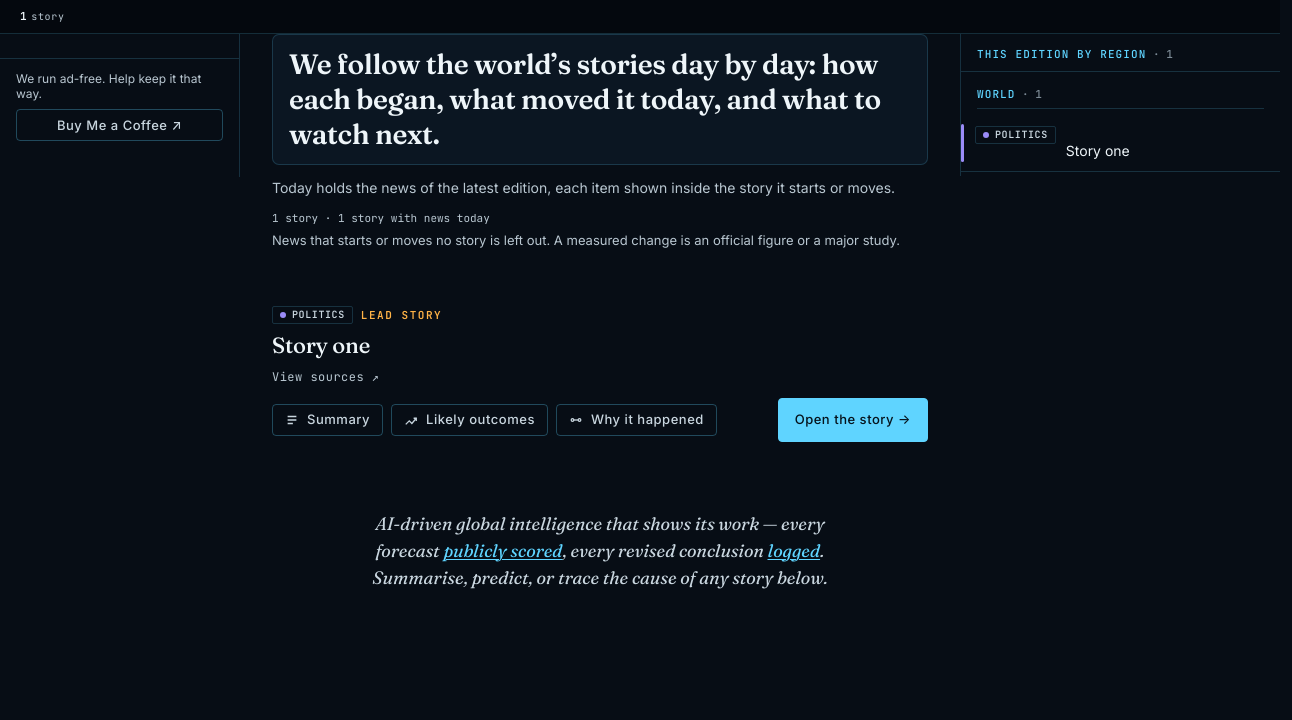
Test: /today failure states › Predict on a topic the latest run wrote without a forecast says so at once: no request, no retry, no network wording, links the story
Click the button "Likely outcomes": (469, 420) [391,404,548,436]
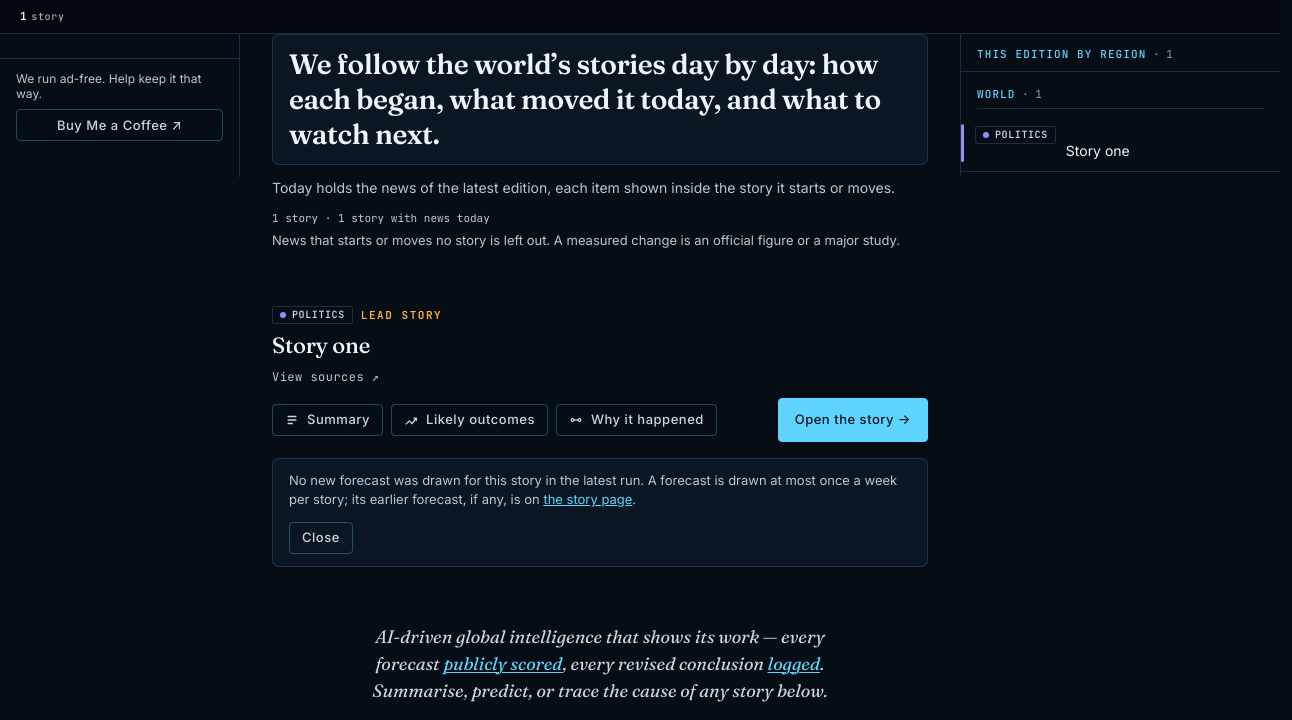
Expected: the message with test id "no-forecast" shows "No new forecast was drawn for this story in the latest run", [289,472,897,507]
Expected: the message with test id "no-forecast" shows "at most once a week", [289,472,897,507]
Click the button "Close": (321, 538) [289,522,353,554]
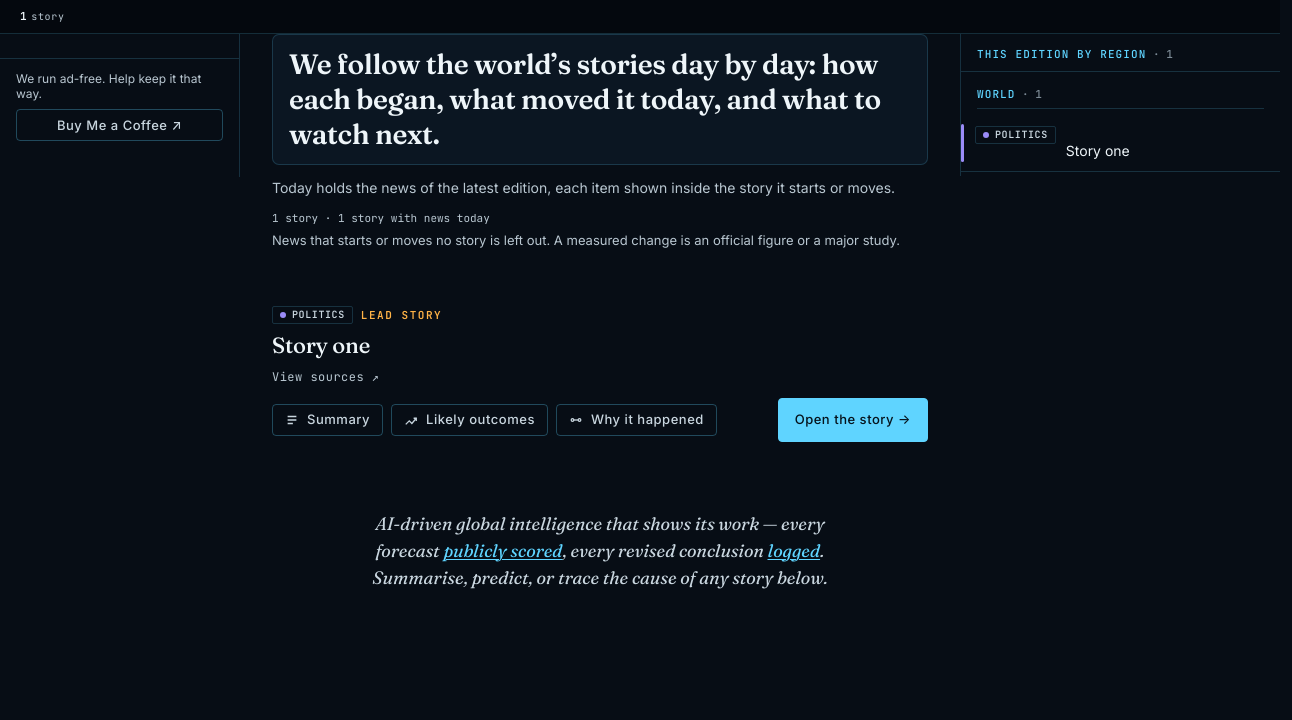
Expected: the message with test id "no-forecast" is gone
